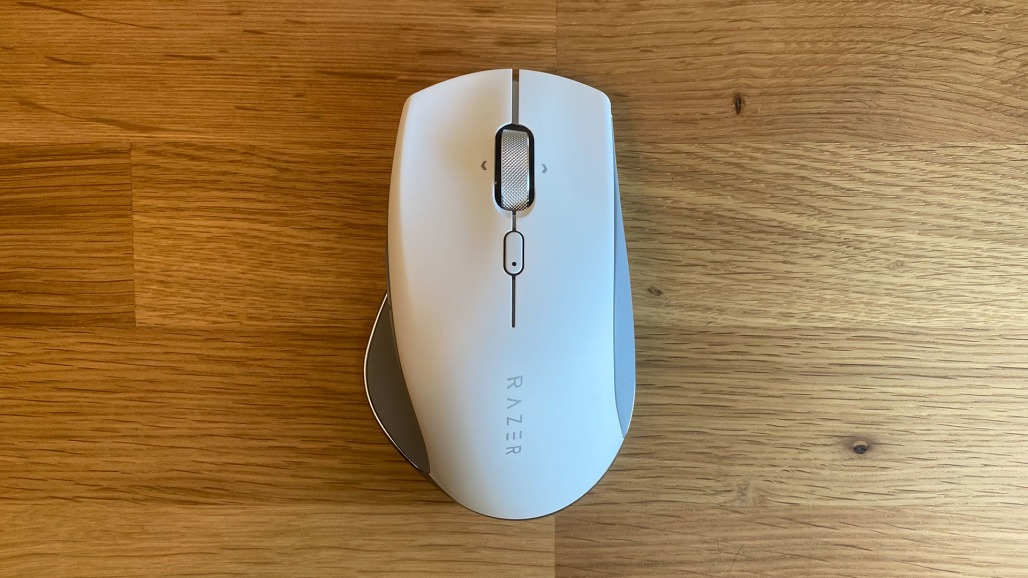mouse: (356, 66, 643, 530)
